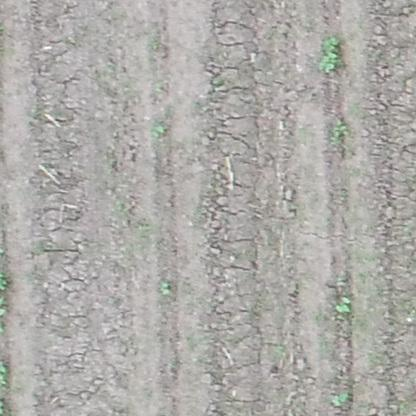vc: (319, 38, 339, 74), (334, 295, 353, 314), (332, 390, 349, 406), (151, 124, 166, 137), (159, 280, 170, 295)
